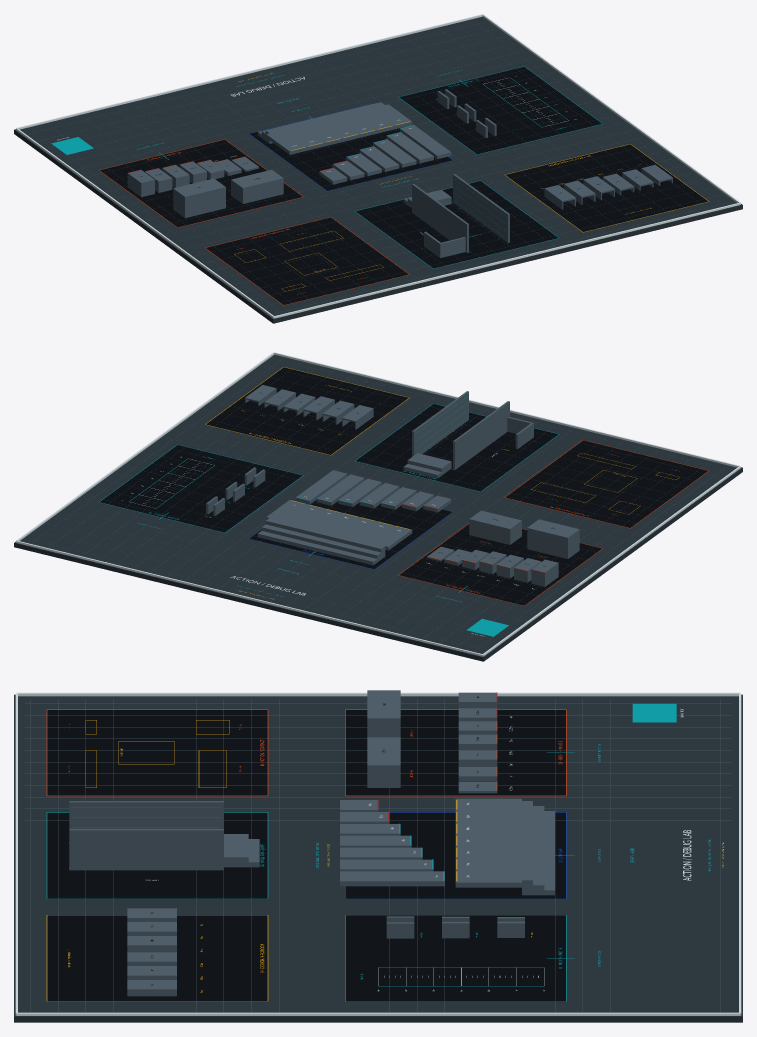
3 views of the same model, one above another, from view 1: azimuth 30°, elevation 25°; view 2: azimuth 150°, elevation 25°; view 3: azimuth 270°, elevation 25° (orthographic). The views are drawn at different scales.
Visible parts, largest first — view 1: DL_Foundation_立方体.363, DL_Bay_6_立方体.632, DL_Bay_1_立方体.429, DL_Bay_4_立方体.550, DL_Bay_5_立方体.591, DL_Bay_3_立方体.520, DL_GapLaunch_立方体.484, DL_Bay_2_立方体.479, DL_WallRun_L_立方体.596, DL_WallRun_R_立方体.610, DL_Mantle_6.0_立方体.548, DL_PerimeterCurb.003_立方体.424 (+9 smaller); view 2: DL_Foundation_立方体.363, DL_Bay_6_立方体.632, DL_Bay_1_立方体.429, DL_Bay_4_立方体.550, DL_Bay_5_立方体.591, DL_Bay_3_立方体.520, DL_GapLaunch_立方体.484, DL_Bay_2_立方体.479, DL_WallRun_R_立方体.610, DL_WallRun_L_立方体.596, DL_Mantle_6.0_立方体.548, DL_PerimeterCurb.002_立方体.422 (+13 smaller); view 3: DL_Foundation_立方体.363, DL_Bay_6_立方体.632, DL_Bay_1_立方体.429, DL_Bay_4_立方体.550, DL_Bay_3_立方体.520, DL_Bay_5_立方体.591, DL_WallRun_L_立方体.596, DL_Bay_2_立方体.479, DL_GapLaunch_立方体.484, DL_WallRun_R_立方体.610, DL_PerimeterCurb.001_立方体.420, DL_PerimeterCurb_立方体.418 (+30 smaller).
Part boxes in pixels (x1,y1,x2,y2): DL_Foundation_立方体.363: (14, 16, 742, 323); DL_Bay_6_立方体.632: (206, 217, 408, 304); DL_Bay_1_立方体.429: (399, 66, 602, 154); DL_Bay_4_立方体.550: (505, 144, 708, 231); DL_Bay_5_立方体.591: (355, 181, 558, 268); DL_Bay_3_立方体.520: (99, 139, 302, 227); DL_GapLaunch_立方体.484: (266, 104, 412, 154); DL_Bay_2_立方体.479: (249, 103, 452, 190); DL_WallRun_L_立方体.596: (453, 174, 509, 242); DL_WallRun_R_立方体.610: (412, 184, 468, 252); DL_Mantle_6.0_立方体.548: (173, 178, 225, 218); DL_PerimeterCurb.003_立方体.424: (274, 203, 740, 318); DL_Foundation_立方体.363: (14, 354, 742, 661); DL_Bay_6_立方体.632: (505, 440, 708, 527); DL_Bay_1_立方体.429: (99, 445, 302, 532); DL_Bay_4_立方体.550: (205, 367, 408, 454); DL_Bay_5_立方体.591: (356, 403, 558, 491); DL_Bay_3_立方体.520: (399, 524, 602, 605); DL_GapLaunch_立方体.484: (266, 500, 412, 550); DL_Bay_2_立方体.479: (249, 499, 452, 569); DL_WallRun_R_立方体.610: (453, 401, 509, 469); DL_WallRun_L_立方体.596: (412, 391, 468, 456); DL_Mantle_6.0_立方体.548: (527, 519, 579, 558); DL_PerimeterCurb.002_立方体.422: (16, 540, 482, 656); DL_Foundation_立方体.363: (14, 694, 742, 1022); DL_Bay_6_立方体.632: (47, 710, 267, 795); DL_Bay_1_立方体.429: (345, 915, 565, 1001); DL_Bay_4_立方体.550: (47, 915, 267, 1001); DL_Bay_3_立方体.520: (345, 710, 565, 795); DL_Bay_5_立方体.591: (47, 812, 267, 898); DL_WallRun_L_立方体.596: (69, 829, 223, 870); DL_Bay_2_立方体.479: (345, 812, 565, 898); DL_GapLaunch_立方体.484: (455, 798, 521, 887); DL_WallRun_R_立方体.610: (69, 801, 223, 828); DL_PerimeterCurb.001_立方体.420: (16, 692, 740, 696); DL_PerimeterCurb_立方体.418: (16, 1012, 740, 1015).
Bounding box in the file's own units: 138 × 9.2 × 132.
9 materials, 9 textured.
